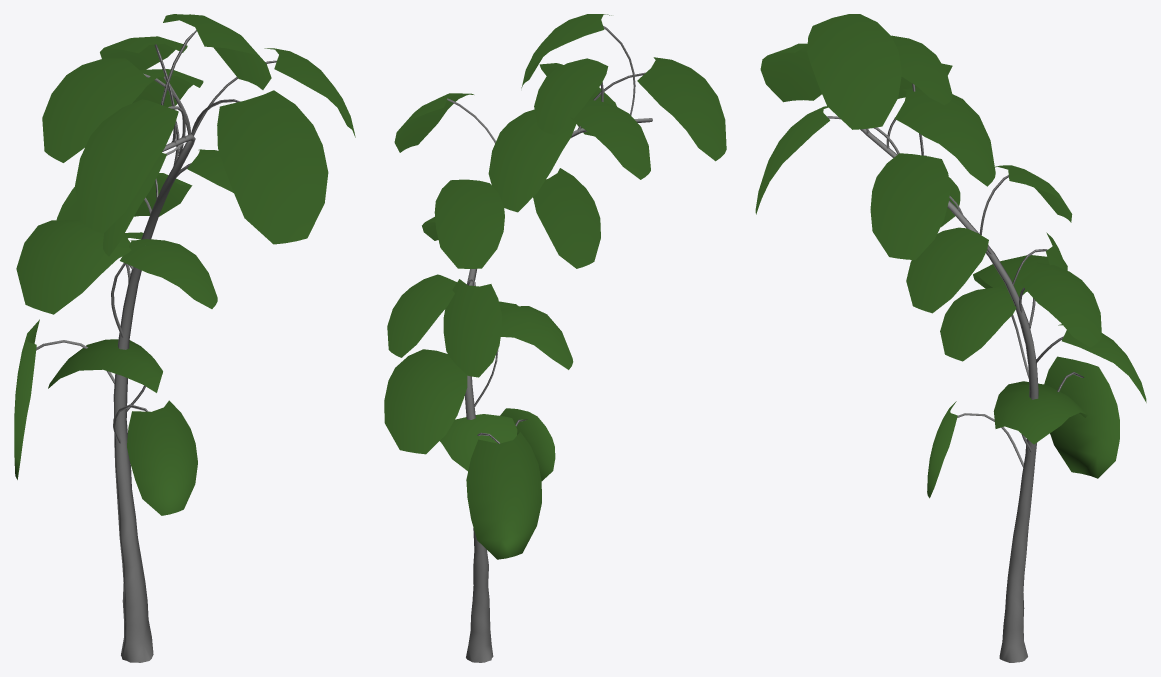
File: SM_plant_tropical_large_01.fbx
3 renders of one model, left to right at view 1: azimuth 30°, elevation 25°; view 2: azimuth 150°, elevation 25°; view 3: azimuth 270°, elevation 25°, orthographic. The views are drawn at different scales.
Visible parts, largest first — view 1: tree014; view 2: tree014; view 3: tree014.
Boxes of the visible parts, x1=… form: tree014: x1=14, y1=14, x2=355, y2=662; tree014: x1=384, y1=14, x2=726, y2=662; tree014: x1=755, y1=14, x2=1146, y2=662.
Size of the model in its own units: 41.85 by 88.28 by 50.4.
